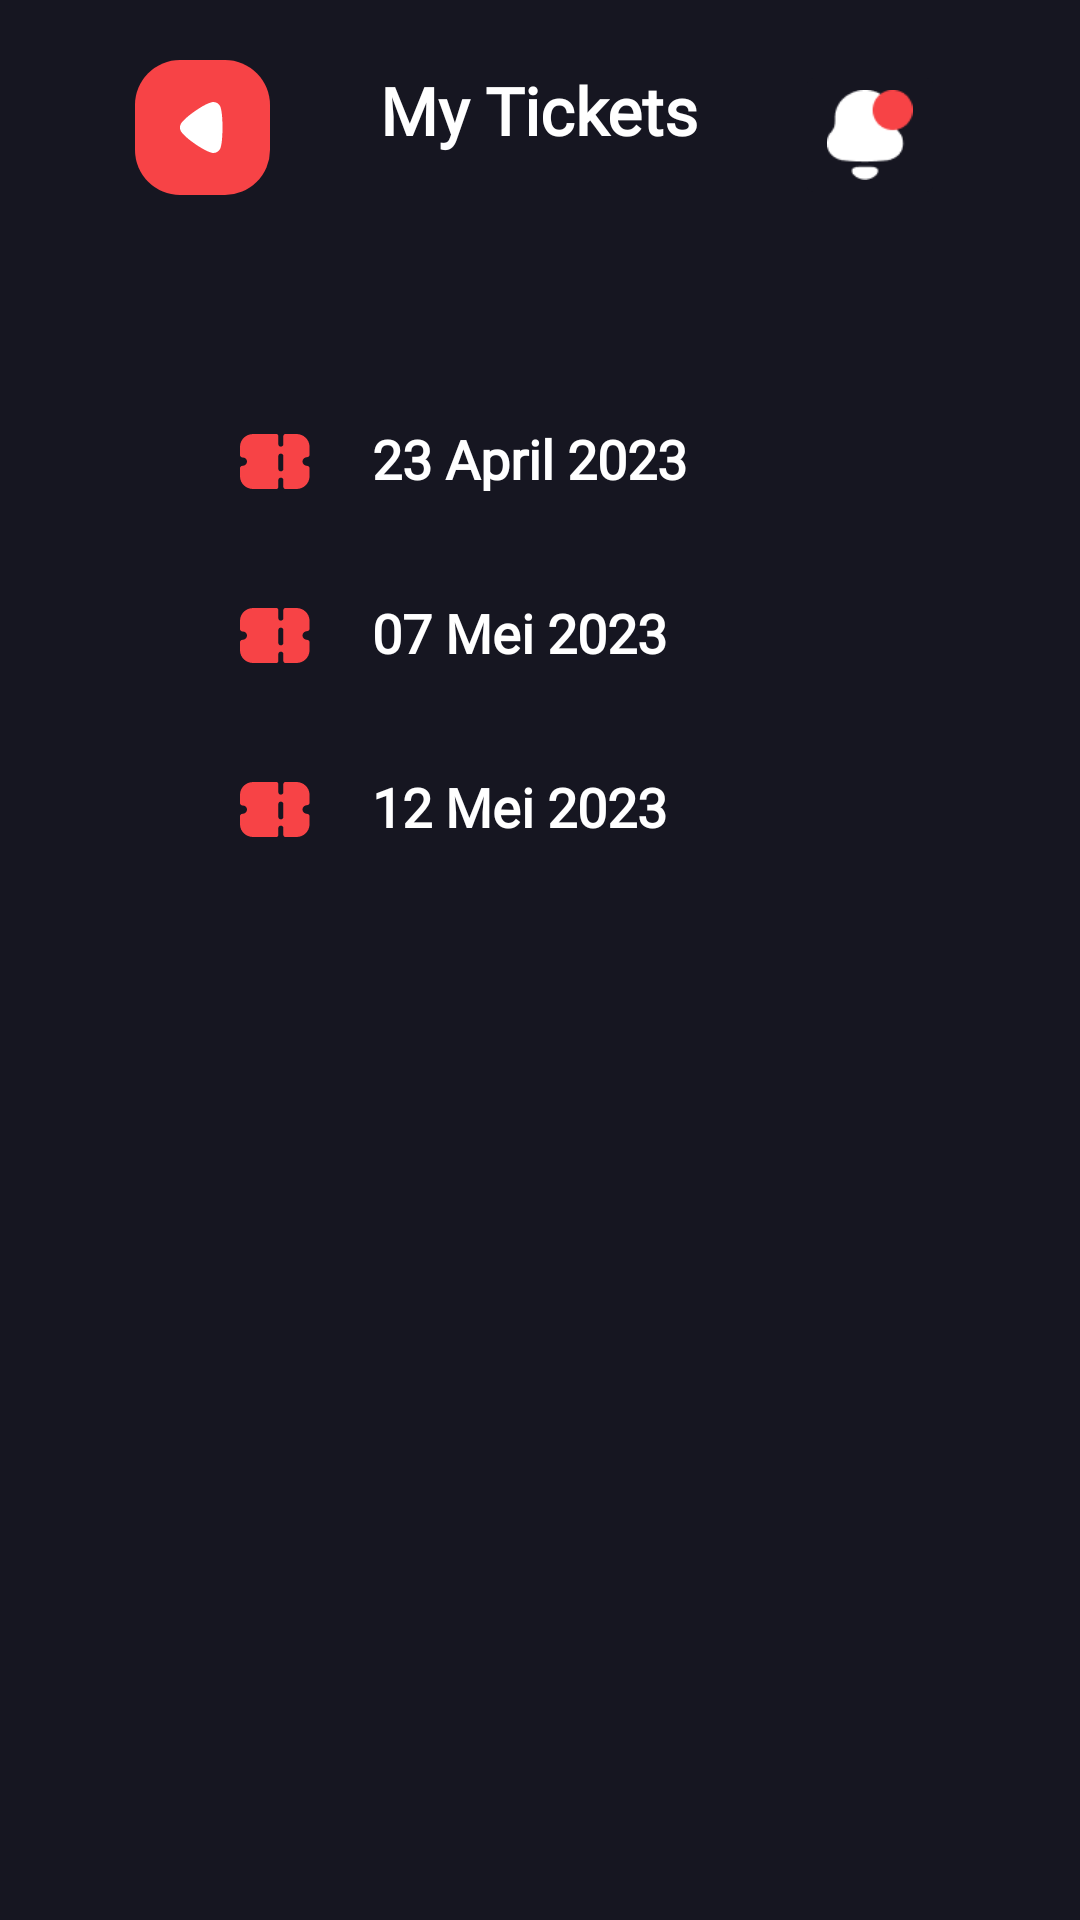

Named icons in this screenshot (1080*1920) and their bounding boxes, [x1, y1, x2, y2]:
arrow left: [135, 60, 270, 195]
notification: [827, 90, 913, 180]
